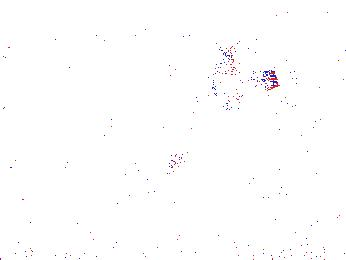flame jellyfish: (206, 57, 279, 112), (156, 170, 214, 228), (123, 153, 183, 208)
